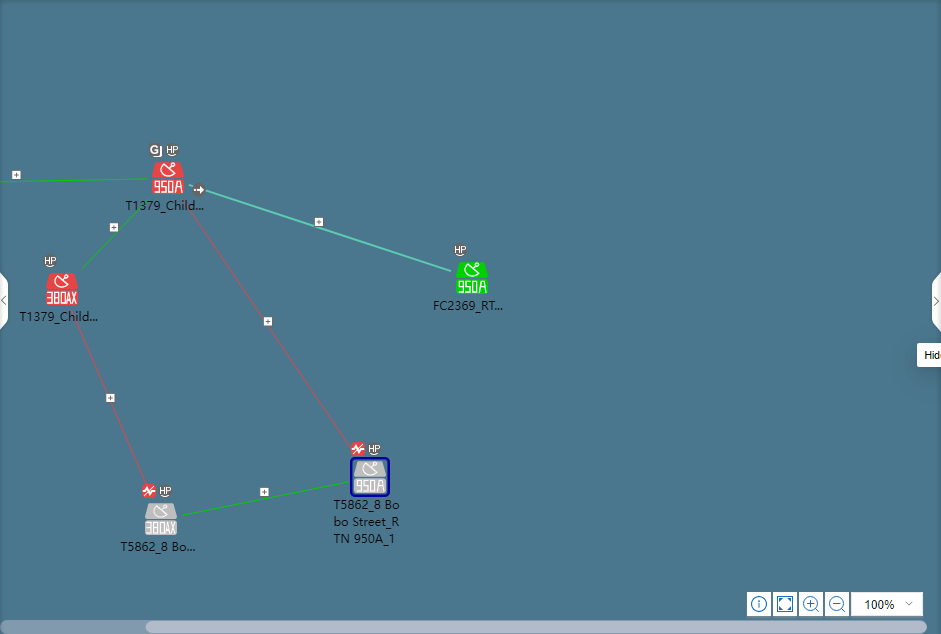Link_Blue: (187, 183, 452, 274)
Link_Green: (182, 478, 350, 518), (79, 199, 150, 271), (0, 177, 150, 183)
Link_Red: (179, 198, 351, 451), (68, 310, 148, 482)
RTN_Gray: (351, 461, 388, 496), (145, 504, 176, 536)
RTN_Green: (457, 263, 487, 294)
RTN_Red: (152, 163, 183, 194), (46, 274, 77, 305)
